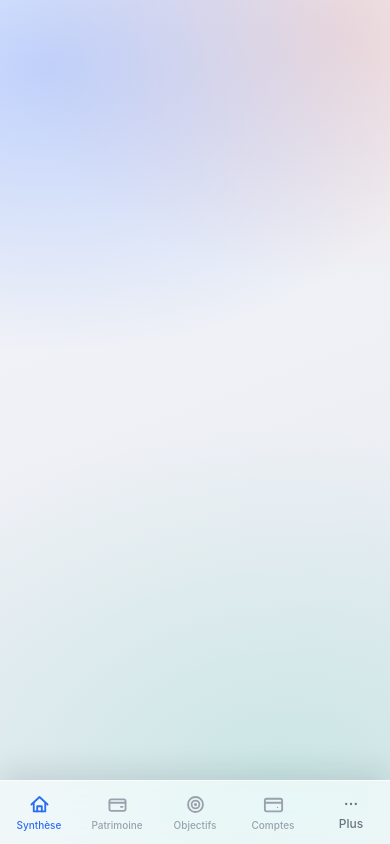
Test case: BottomNav (backlog 2.K.4) › « Plus » ouvre une feuille avec Analyse/Rapport, Import/Réglages/Aide, thème et déconnexion
Click the button "Plus" at [351, 812], box [312, 781, 389, 843]
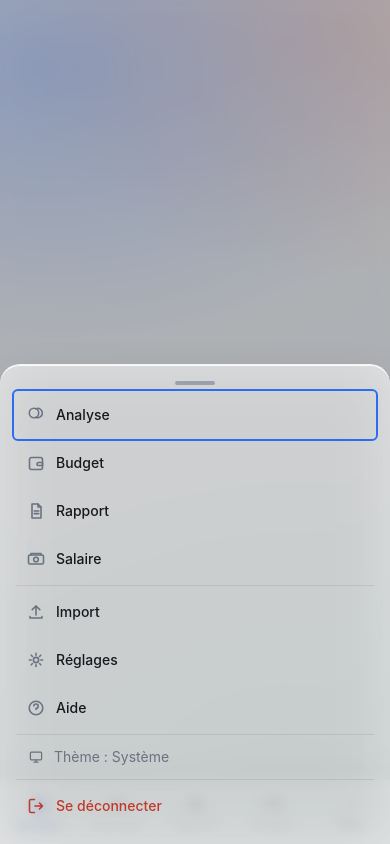
Expected: the button "Thème : Système" is shown, [16, 739, 374, 775]
